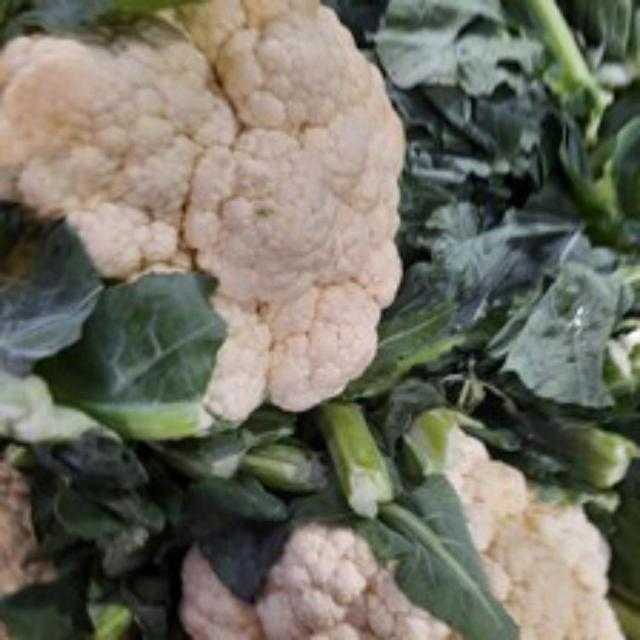cauliflower: (0, 0, 420, 451)
